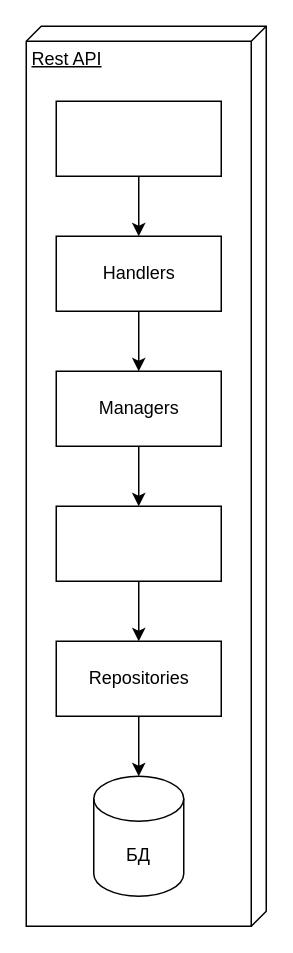
Image size: 293x953. Some labels were removed from this diagram. Each missing label, with the box of its shape:
Controllers: (55, 505, 221, 581)
Server: (55, 100, 221, 176)
